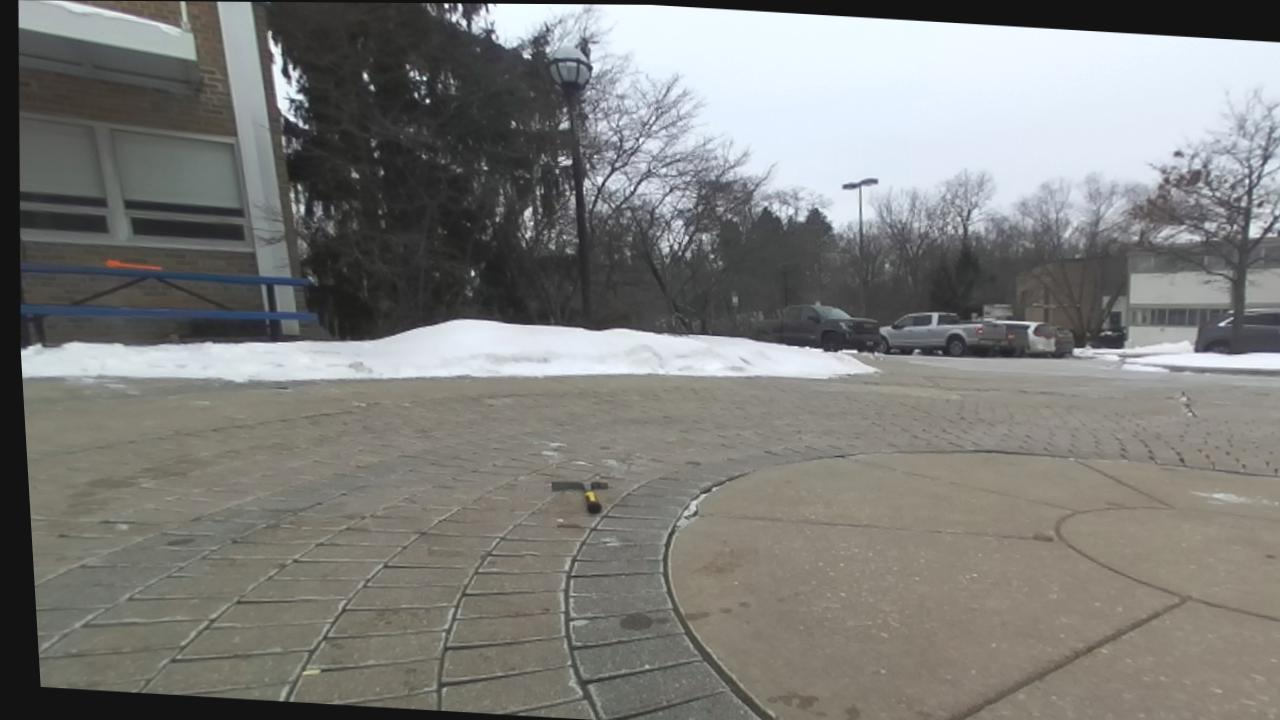mallet: (105, 260, 161, 269)
pick: (552, 482, 607, 513)
